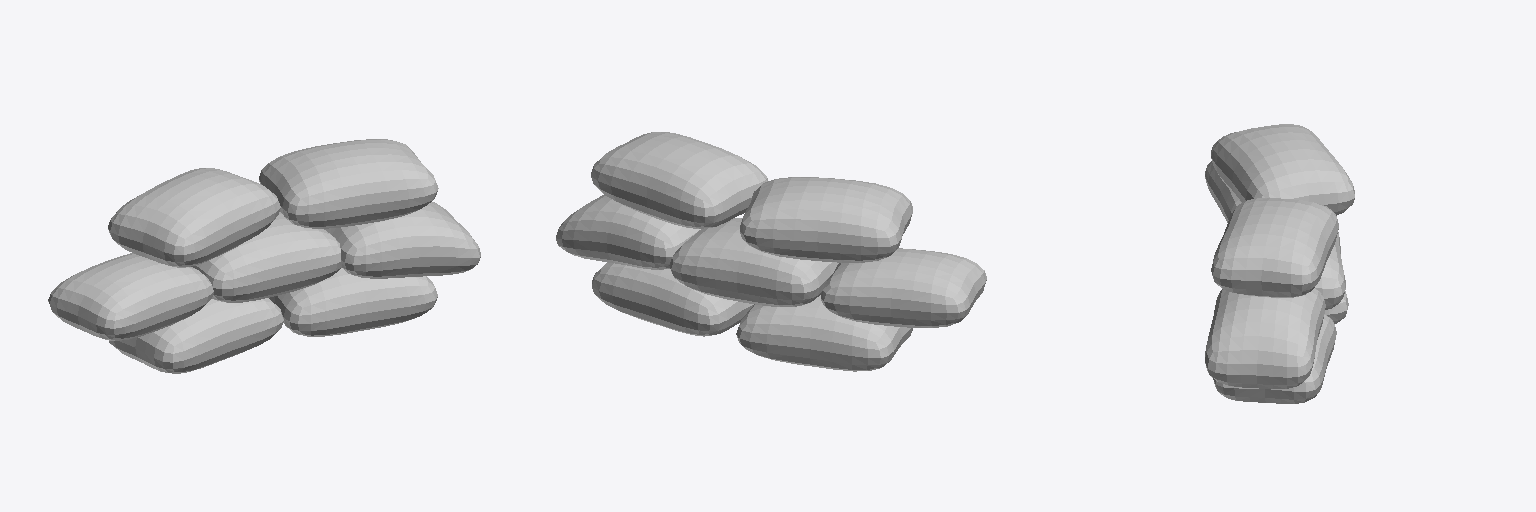
3 views of the same model, side by side, from view 1: azimuth 30°, elevation 25°; view 2: azimuth 150°, elevation 25°; view 3: azimuth 270°, elevation 25° (orthographic).
Visible parts, largest first — view 1: SackTrench_Small.003_Cube.108; view 2: SackTrench_Small.003_Cube.108; view 3: SackTrench_Small.003_Cube.108.
Boxes of the visible parts, box(x1,y1,x2,y2) form: SackTrench_Small.003_Cube.108: box(48, 139, 480, 373); SackTrench_Small.003_Cube.108: box(556, 132, 986, 371); SackTrench_Small.003_Cube.108: box(1205, 124, 1354, 403).
Bounding box in the file's own units: 278 × 112 × 89.67.